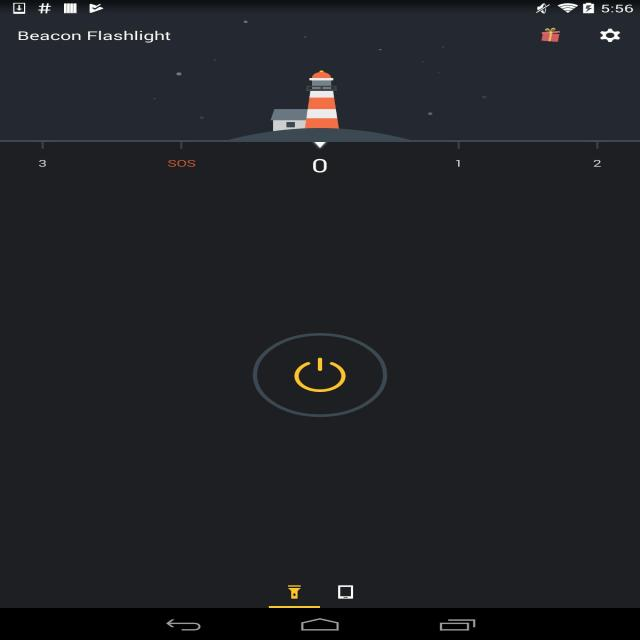button: (248, 327, 390, 420), (271, 578, 316, 606), (326, 578, 366, 608), (594, 25, 629, 47)
heading: (15, 28, 176, 46)
image: (2, 15, 640, 143)
text: (26, 151, 631, 173)
